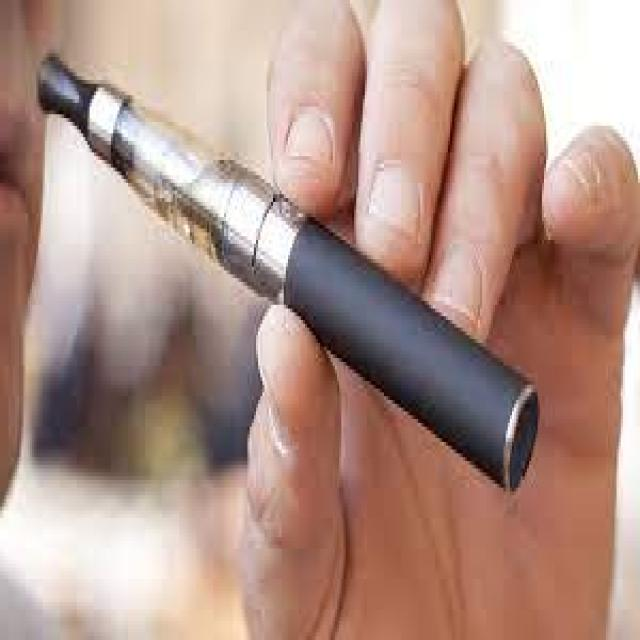Cigarette: (38, 57, 539, 489)
Hand: (232, 23, 622, 640)
Mouth: (0, 115, 43, 215)
